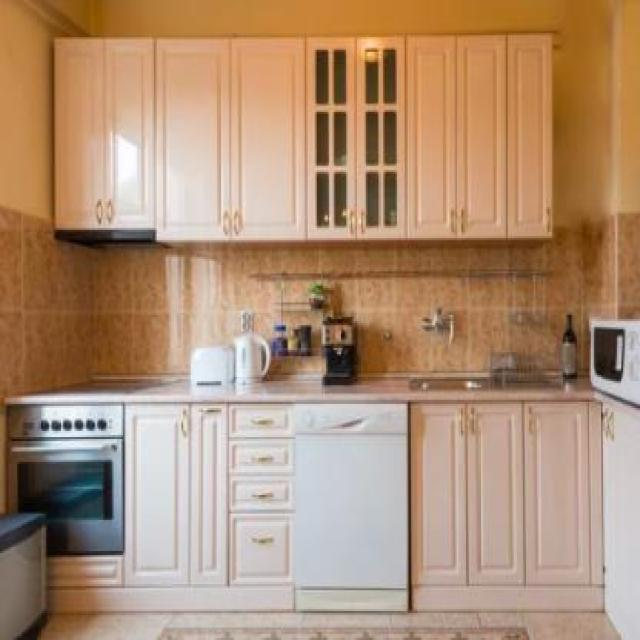dishwasher: (291, 400, 411, 611)
